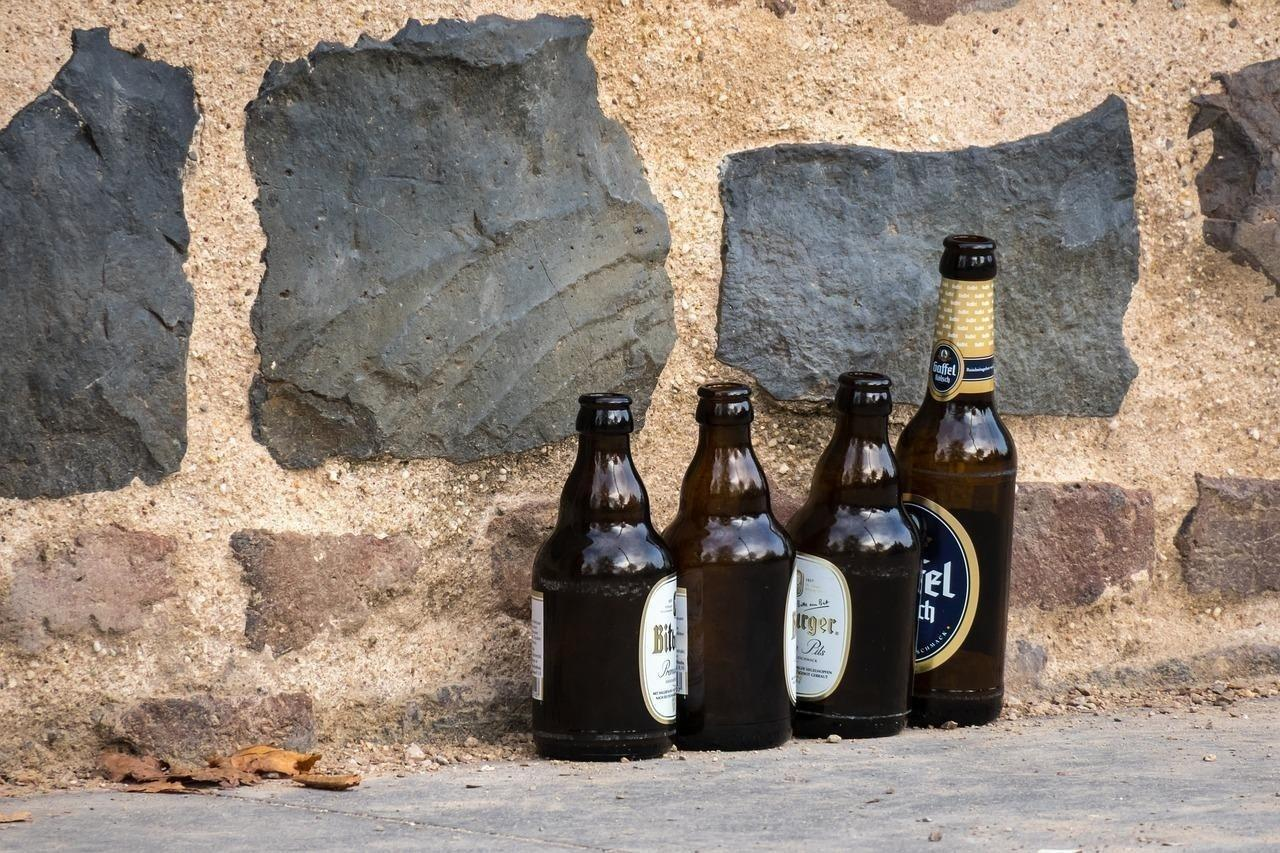bottle-glass: (889, 230, 1021, 724), (523, 386, 687, 769), (778, 358, 924, 743), (656, 382, 802, 756)
